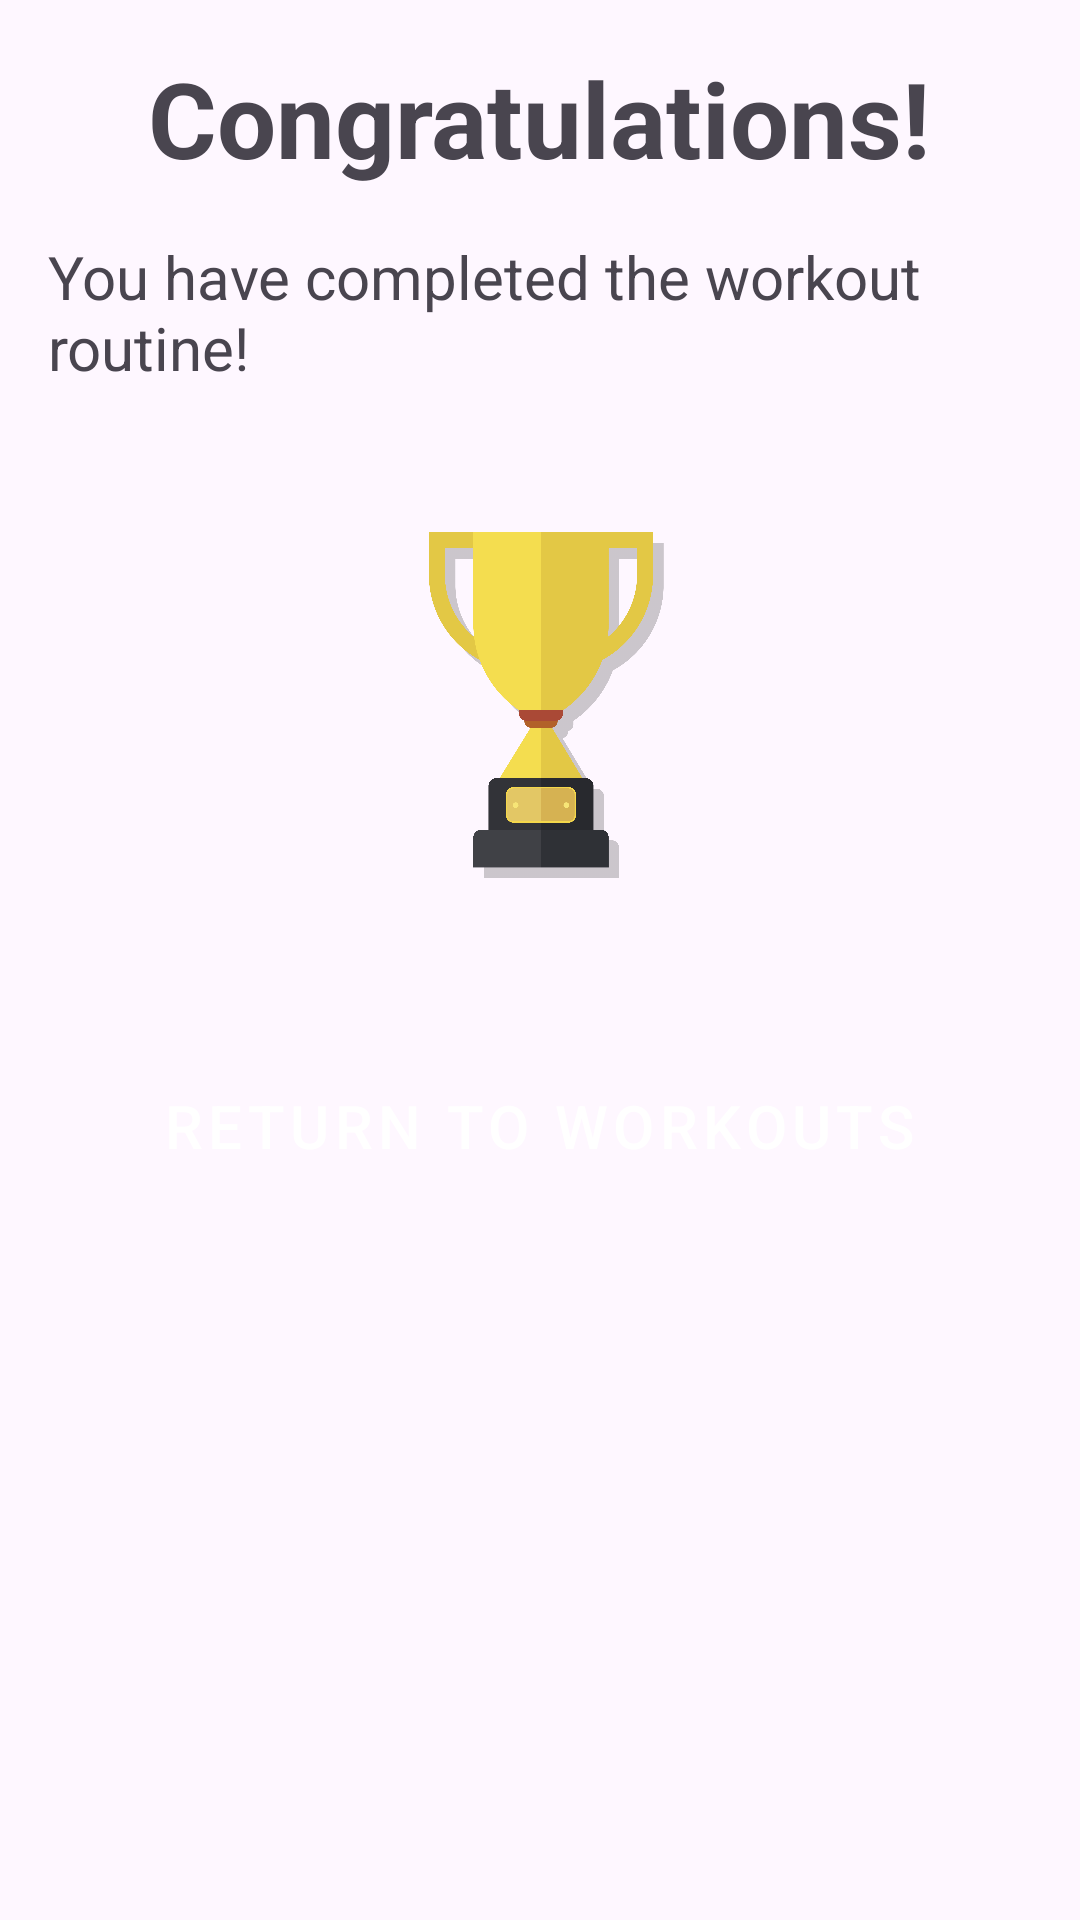

Icon bounding boxes for this 1080 × 1920 phone screenshot, format (x1, y1, x2, y2):
trophy: (429, 532, 664, 878)
